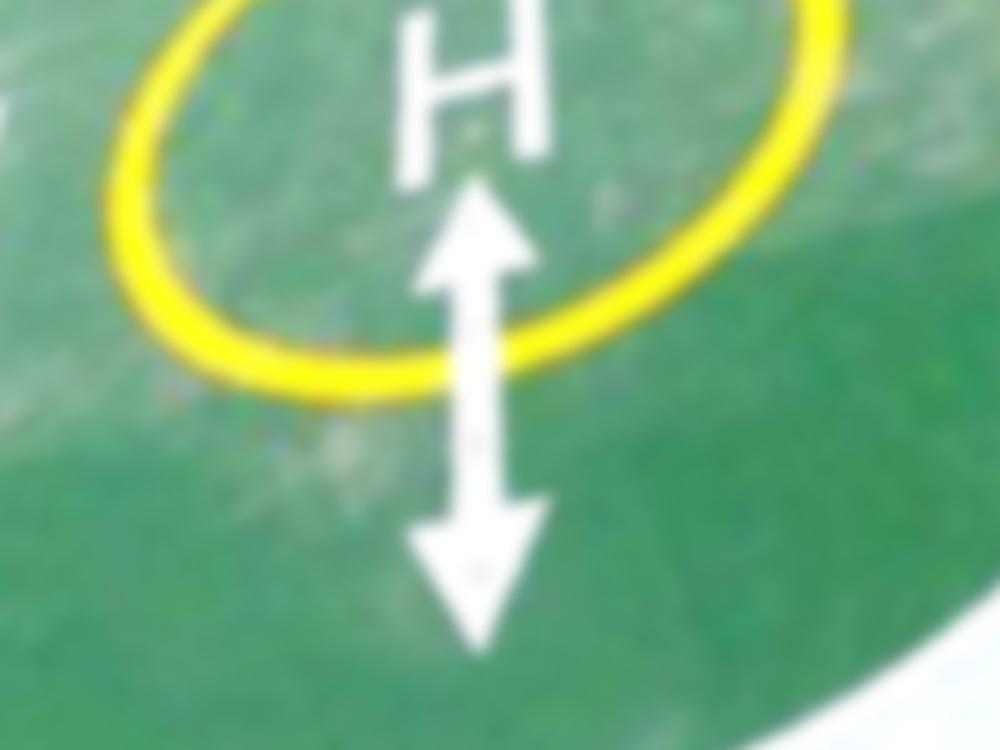Apron: (64, 5, 882, 441)
